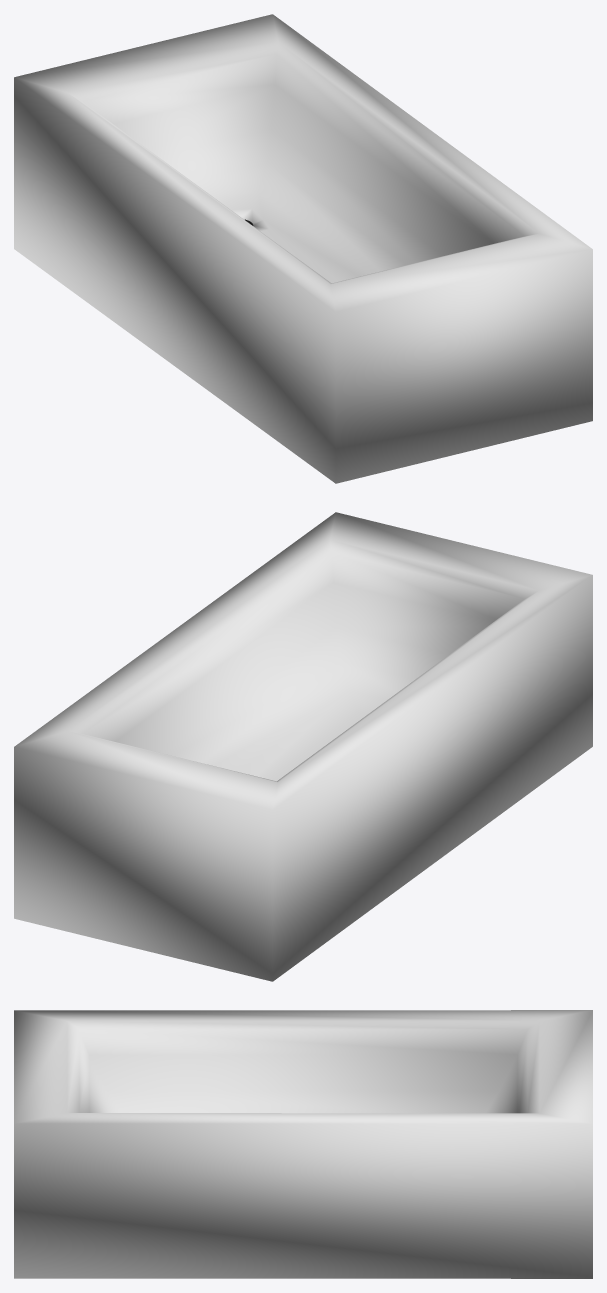
Rendered from bathtub.glb.
3 renders of one model, top to bottom at view 1: azimuth 30°, elevation 25°; view 2: azimuth 150°, elevation 25°; view 3: azimuth 270°, elevation 25°, orthographic. The views are drawn at different scales.
Visible parts, largest first — view 1: Bathtub; view 2: Bathtub; view 3: Bathtub.
Part boxes in pixels (bbox=[...]): Bathtub: bbox=[14, 14, 592, 483]; Bathtub: bbox=[14, 512, 592, 981]; Bathtub: bbox=[14, 1010, 592, 1278].
Size of the model in its own units: 0.9418 by 0.5973 by 2.02.
1 material, 1 textured.
